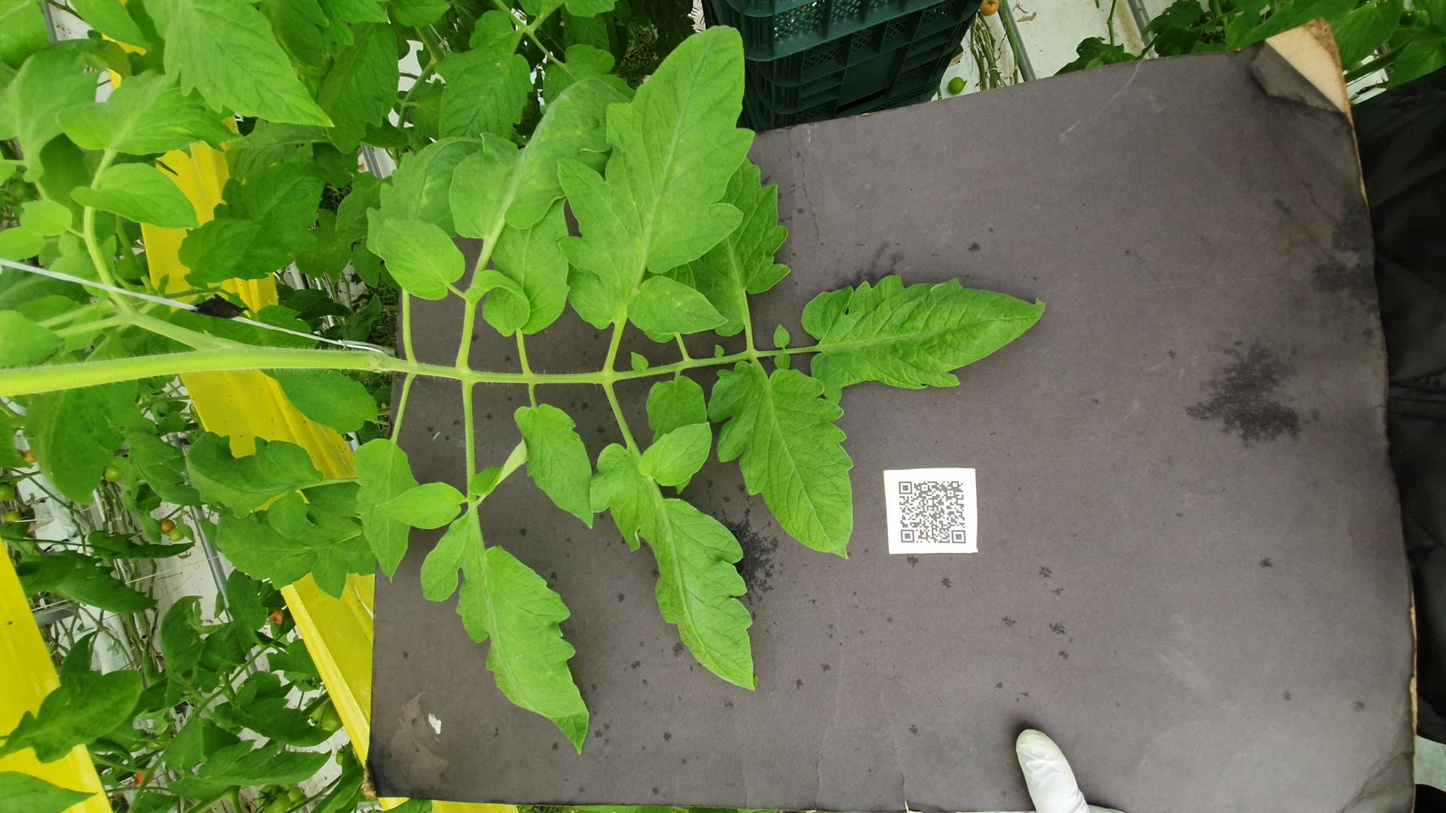Healthy: (848, 312, 1399, 425), (217, 331, 692, 426), (102, 235, 530, 332), (716, 449, 960, 587), (447, 395, 807, 481), (1211, 89, 1446, 190), (375, 119, 572, 201), (1172, 32, 1327, 135), (482, 103, 682, 182), (85, 2, 260, 81), (1197, 243, 1429, 302), (408, 196, 676, 235), (505, 289, 728, 333), (1036, 39, 1158, 111), (114, 123, 239, 188), (906, 212, 1060, 260), (669, 153, 789, 211), (924, 99, 1064, 148), (545, 72, 681, 115), (502, 209, 590, 263)
